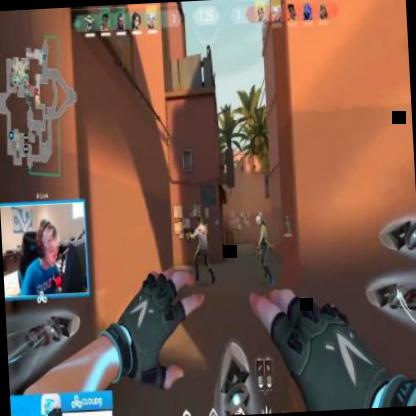enemy: (186, 215, 214, 286), (253, 210, 275, 288)
enemy_head: (254, 211, 262, 225), (196, 216, 200, 226)
